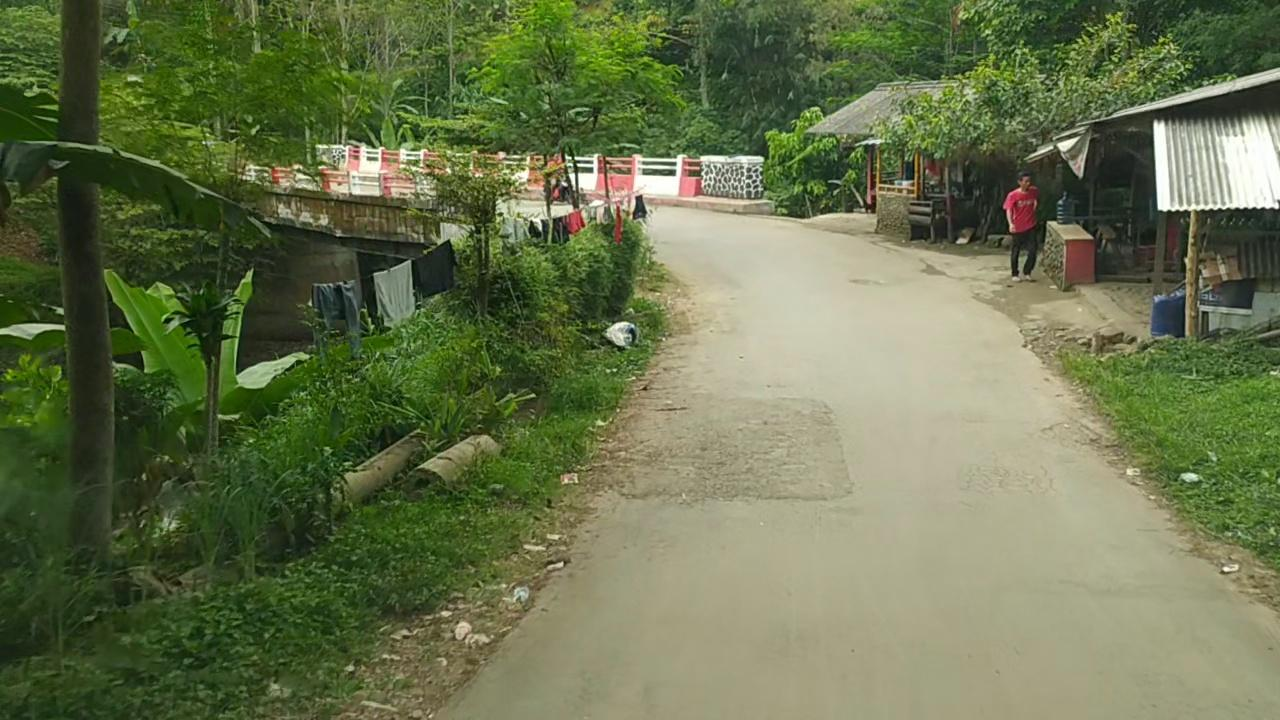pothole: (848, 278, 886, 286)
